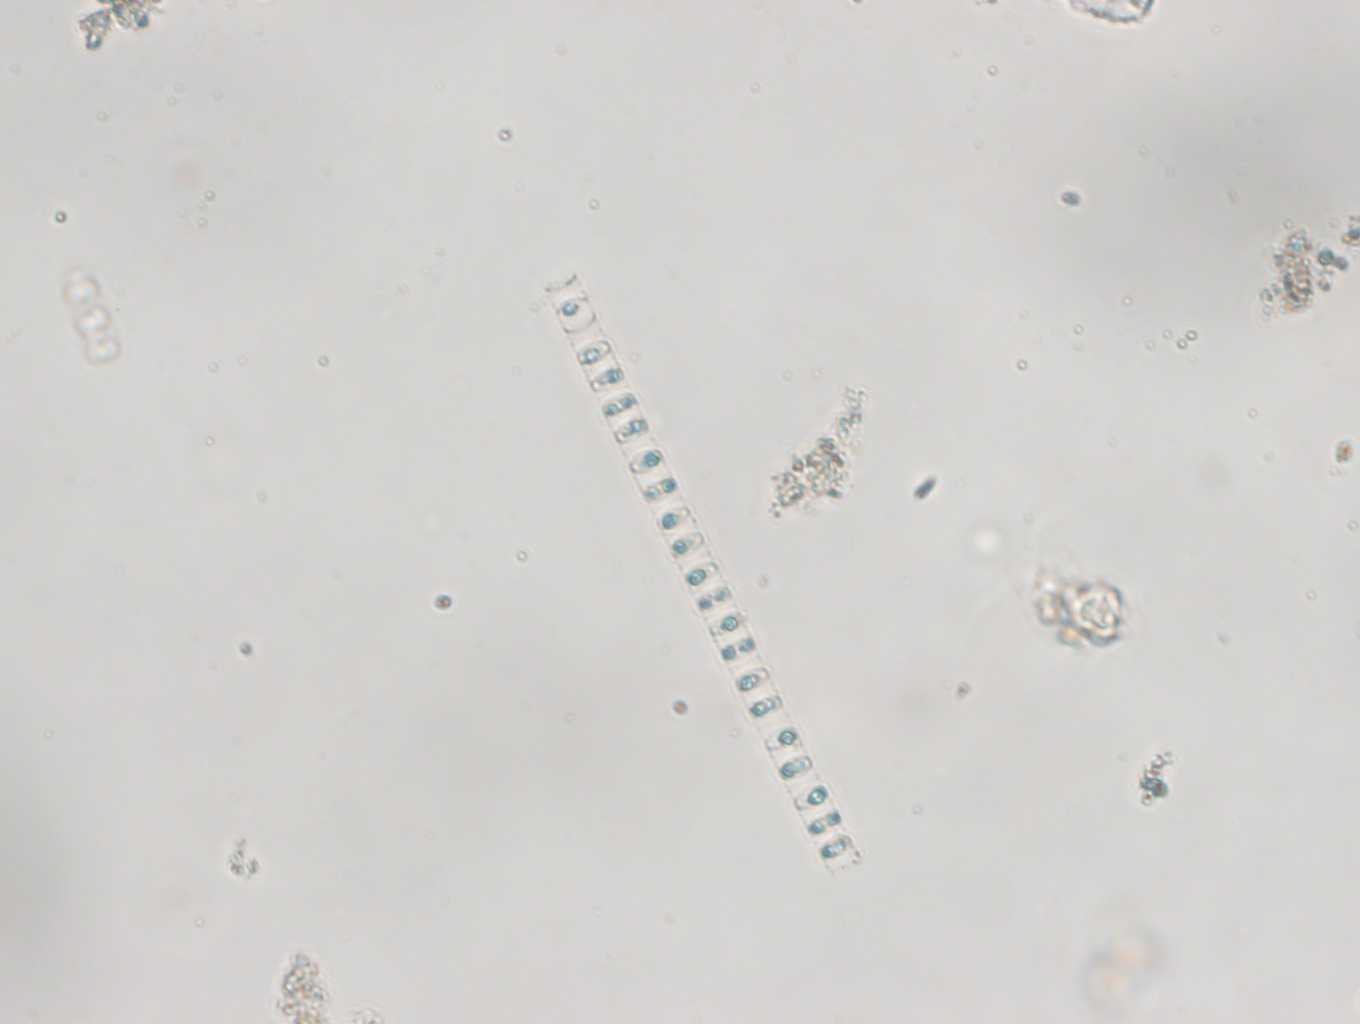skeletonema: (539, 276, 868, 885)
